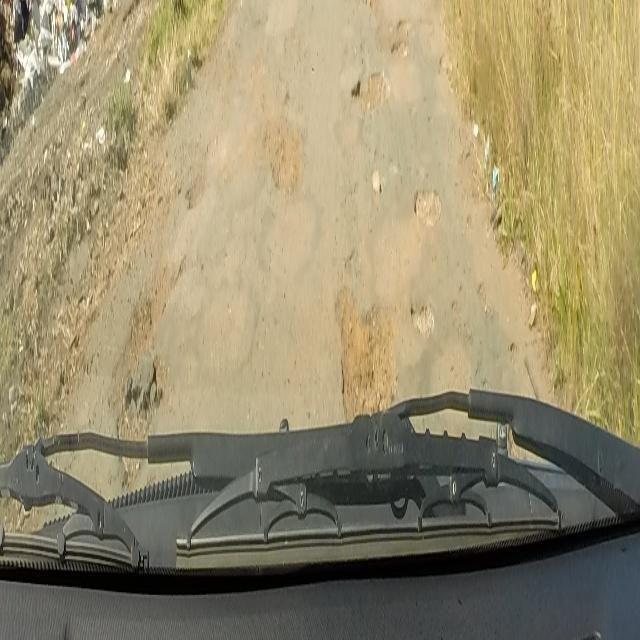pothole: (108, 268, 170, 486), (332, 286, 396, 419), (264, 120, 304, 200), (349, 68, 392, 108), (412, 183, 442, 226), (409, 300, 434, 340), (389, 33, 408, 57), (396, 13, 412, 29)
